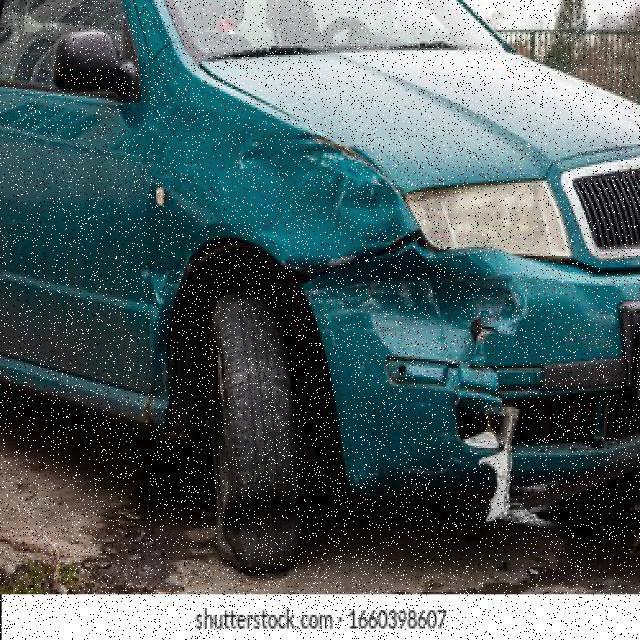fender-dent: (140, 110, 388, 266)
front-bumper-dent: (306, 228, 638, 496)
